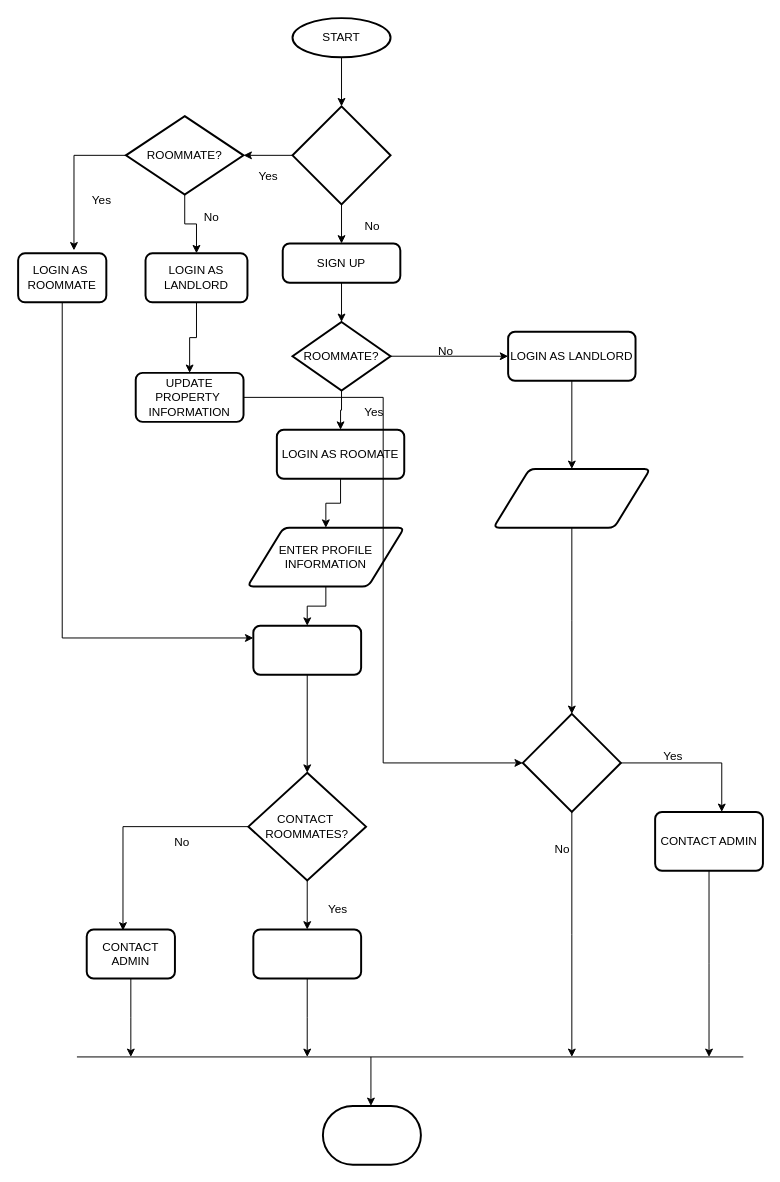
This 780x1182 diagram has some shape labels left out. Here are the shapes that lost their labels. From the top down, the centre of each, then its label:
At (341,155): "HAVE AN ACCOUNT?".
At (571,497): "ENTER PROPERTY INFORMATION".
At (307,649): "SEARCH FOR ROOMMATE".
At (571,762): "CONTACT ADMIN?".
At (307,953): "CONTACT ROOMMATE".
At (371,1134): "STOP".
